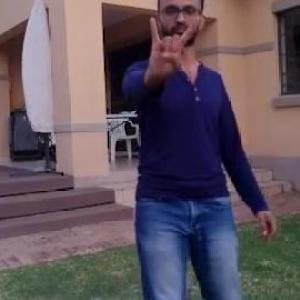takeoff-hand: (139, 8, 199, 89)
